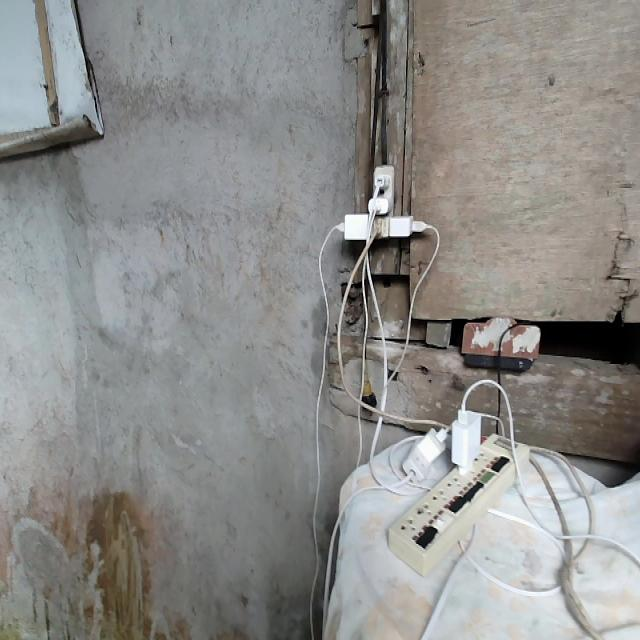-: (336, 162, 420, 242)
